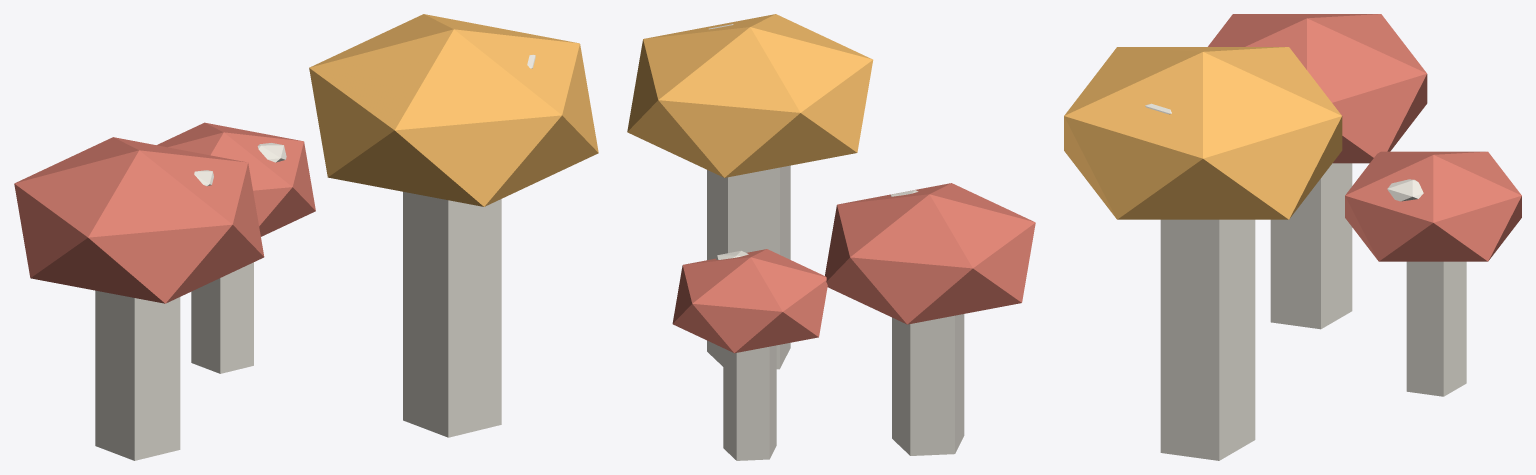
File: mushroom_cluster.glb
The picture shows the model from 3 angles, left to right: view 1: azimuth 30°, elevation 25°; view 2: azimuth 150°, elevation 25°; view 3: azimuth 270°, elevation 25°; orthographic projection. The views are drawn at different scales.
Parts seen in each view (by area): view 1: cap_1, cap_0, stem_1, stem_0, cap_2, stem_2; view 2: cap_1, cap_0, cap_2, stem_0, stem_1, stem_2; view 3: cap_1, stem_1, cap_2, cap_0, stem_0, stem_2, spot_2.
Boxes of the visible parts, x1,y1,x2,y2 form: cap_1: [309, 14, 598, 206]; cap_0: [14, 137, 264, 303]; stem_1: [403, 192, 501, 437]; stem_0: [95, 290, 180, 460]; cap_2: [156, 122, 315, 236]; stem_2: [191, 262, 253, 373]; cap_1: [627, 14, 873, 177]; cap_0: [825, 183, 1035, 324]; cap_2: [672, 249, 827, 353]; stem_0: [892, 314, 964, 455]; stem_1: [707, 165, 790, 369]; stem_2: [723, 345, 776, 460]; cap_1: [1064, 47, 1342, 219]; stem_1: [1160, 219, 1255, 460]; cap_2: [1345, 151, 1521, 261]; cap_0: [1208, 14, 1427, 163]; stem_0: [1270, 163, 1352, 329]; stem_2: [1406, 261, 1466, 396]; spot_2: [1387, 179, 1423, 201].
Size of the model in its own units: 0.7767 by 0.5762 by 0.6162.
